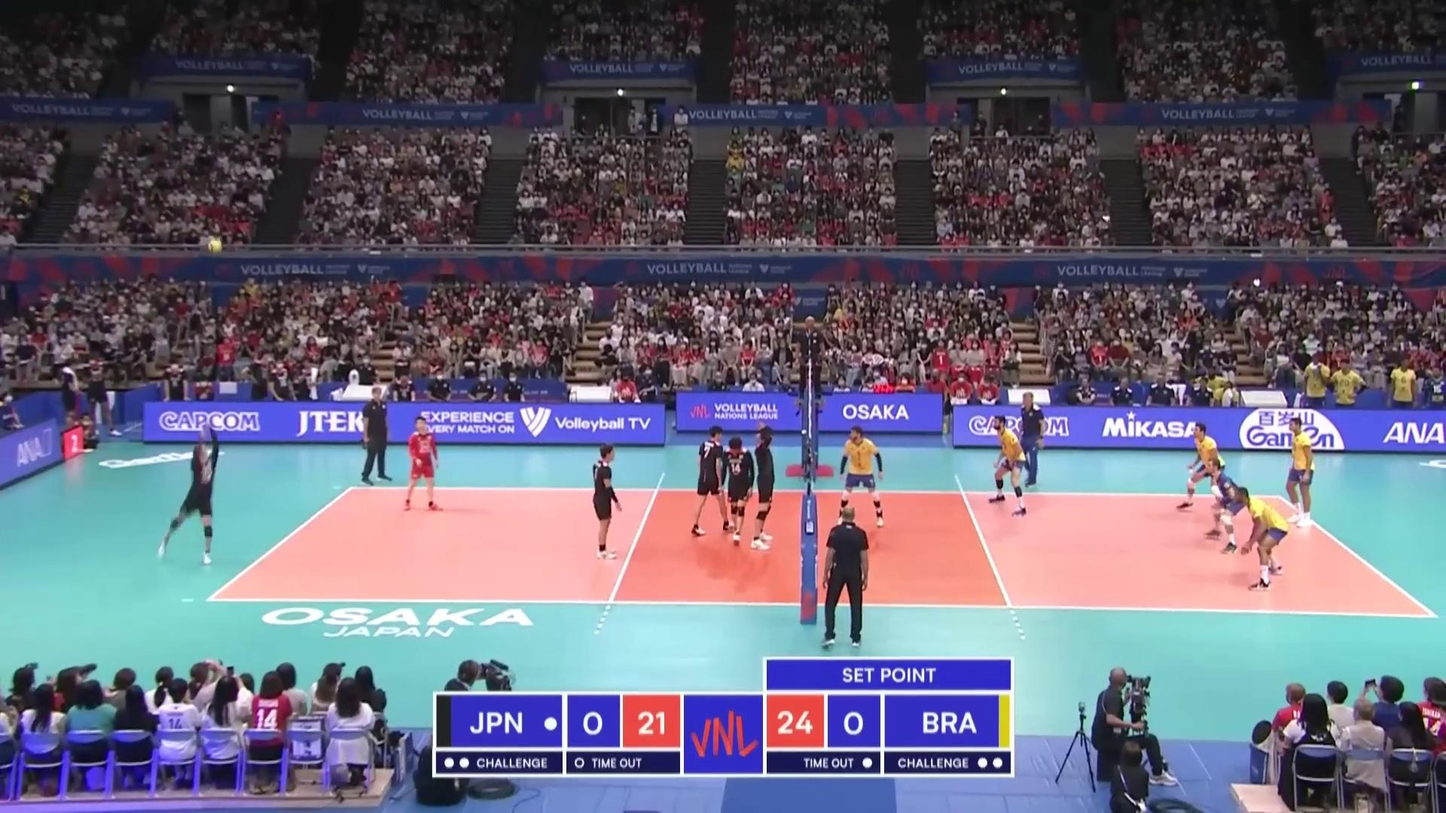player: (155, 429, 221, 565), (1234, 487, 1289, 593), (835, 425, 882, 524), (1181, 422, 1231, 512), (692, 426, 729, 543), (1201, 458, 1245, 554), (988, 413, 1028, 516), (1283, 416, 1318, 527), (592, 443, 624, 560), (752, 425, 781, 549), (722, 436, 753, 549), (404, 418, 440, 512)
refree: (822, 507, 869, 647), (793, 314, 826, 410)
